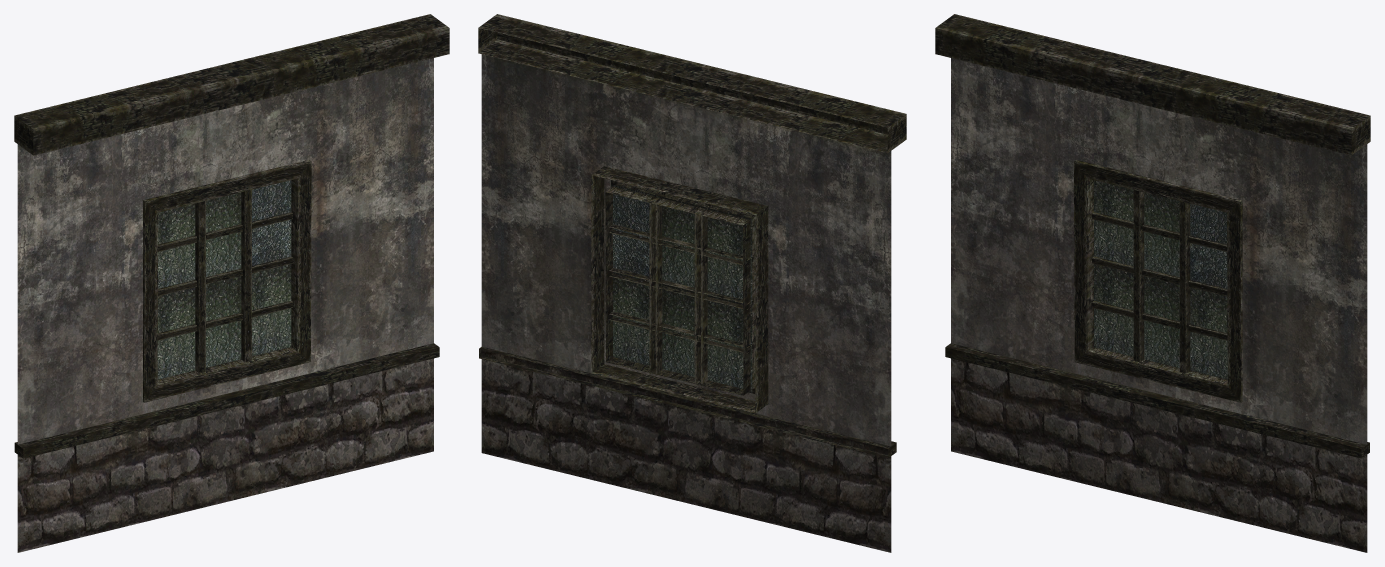
The model's file is pubwallwindow.DAE.
3 views of the same model, side by side, from view 1: azimuth 30°, elevation 25°; view 2: azimuth 150°, elevation 25°; view 3: azimuth 330°, elevation 25° (orthographic).
Parts seen in each view (by area): view 1: Object055, Object026, Object024, Object030; view 2: Object055, Object026, Object024, Object030; view 3: Object055, Object026, Object024, Object030.
Part boxes in pixels (bbox=[...]): Object055: bbox=[17, 58, 433, 444]; Object026: bbox=[14, 14, 449, 458]; Object024: bbox=[17, 358, 433, 552]; Object030: bbox=[157, 180, 291, 379]; Object055: bbox=[481, 51, 891, 446]; Object026: bbox=[478, 14, 906, 458]; Object024: bbox=[481, 350, 891, 552]; Object030: bbox=[611, 184, 752, 392]; Object055: bbox=[951, 58, 1367, 444]; Object026: bbox=[935, 14, 1370, 458]; Object024: bbox=[951, 358, 1367, 552]; Object030: bbox=[1094, 180, 1227, 379].
Size of the model in its own units: 4.01 by 4 by 0.4783.
